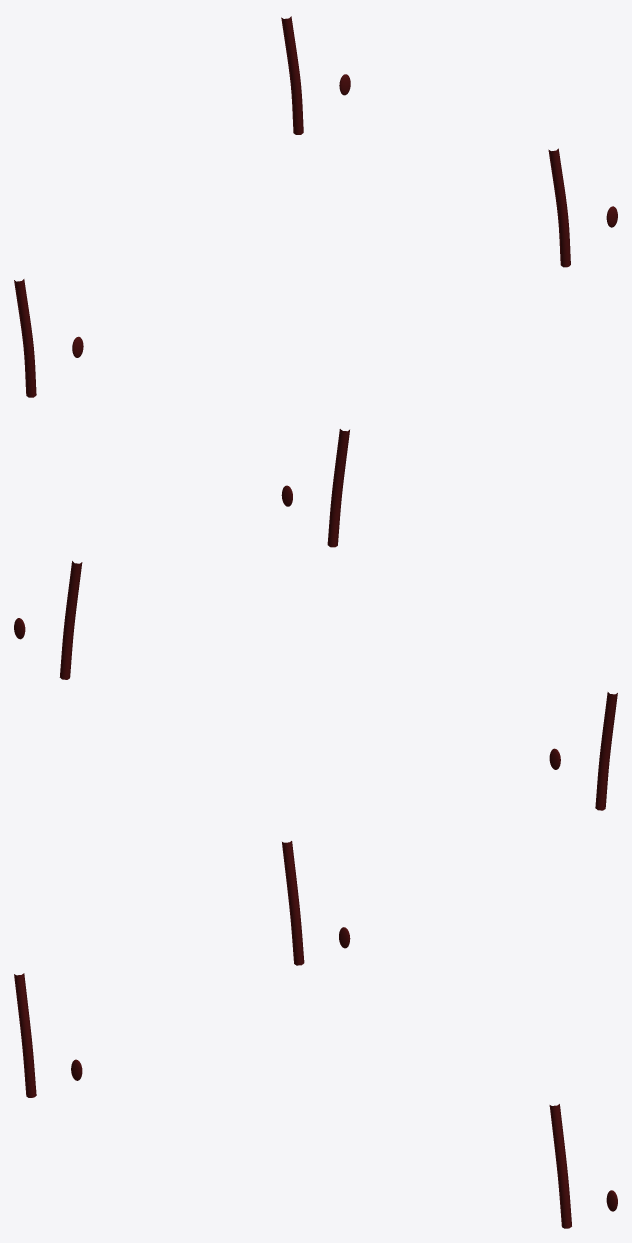
File: mia-handprints.glb
3 renders of one model, top to bottom at view 1: azimuth 30°, elevation 25°; view 2: azimuth 150°, elevation 25°; view 3: azimuth 330°, elevation 25°, orthographic.
Visible parts, largest first — view 1: Body_blood-gloss; view 2: Body_blood-gloss; view 3: Body_blood-gloss.
Part boxes in pixels (bbox=[...]): Body_blood-gloss: bbox=[14, 16, 617, 397]; Body_blood-gloss: bbox=[14, 429, 617, 810]; Body_blood-gloss: bbox=[14, 841, 617, 1228].
Size of the model in its own units: 0.5386 by 0.2715 by 0.009.
